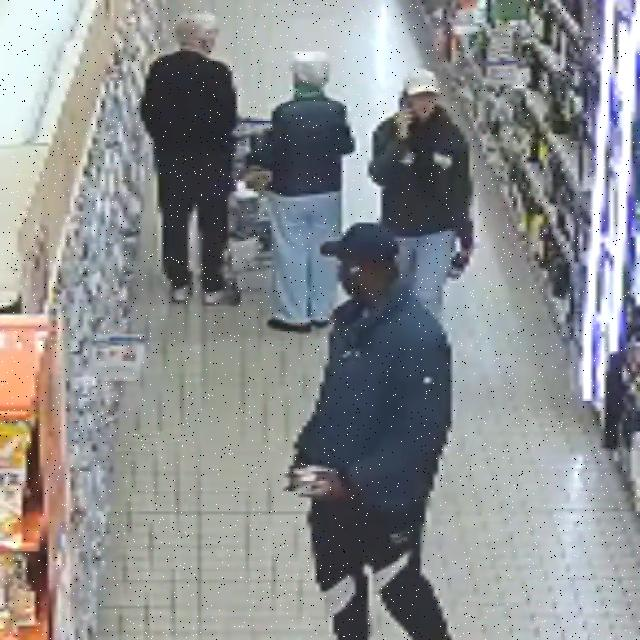article: (293, 462, 337, 483)
hands: (299, 475, 343, 499), (450, 249, 471, 278), (396, 109, 413, 140)
person: (290, 224, 451, 639), (254, 52, 355, 333), (141, 14, 237, 304), (370, 69, 473, 318)
